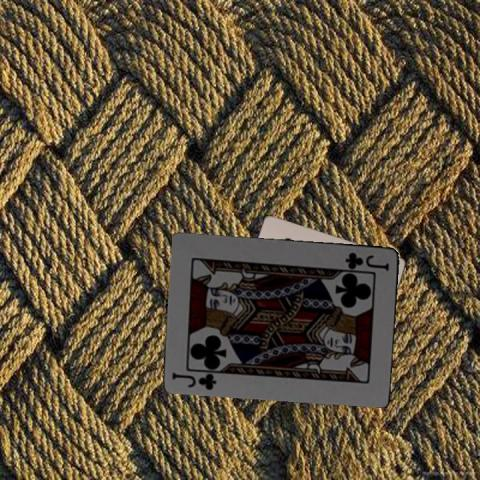Jc: (169, 369, 218, 391), (343, 249, 391, 271)
